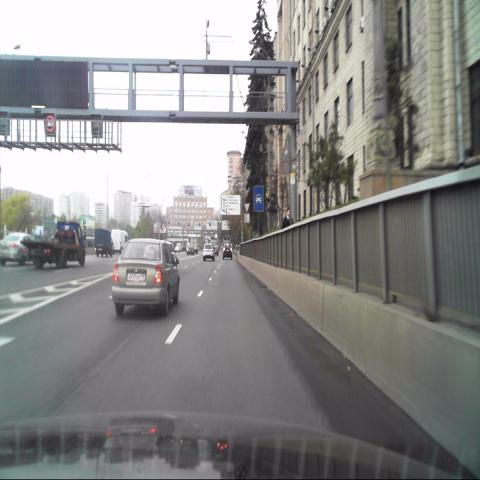5_3: (254, 185, 264, 211)
